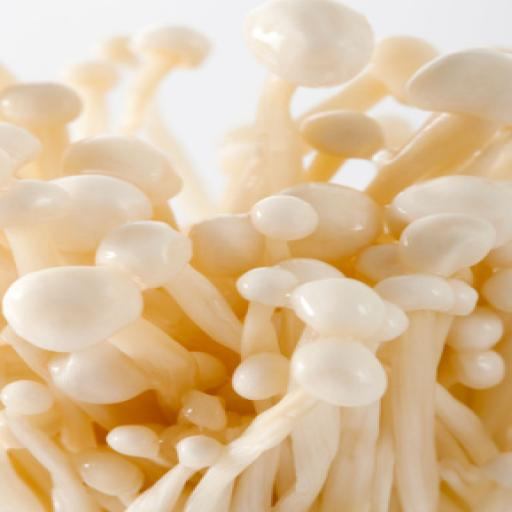Enoki Mushroom: (5, 0, 511, 441)
